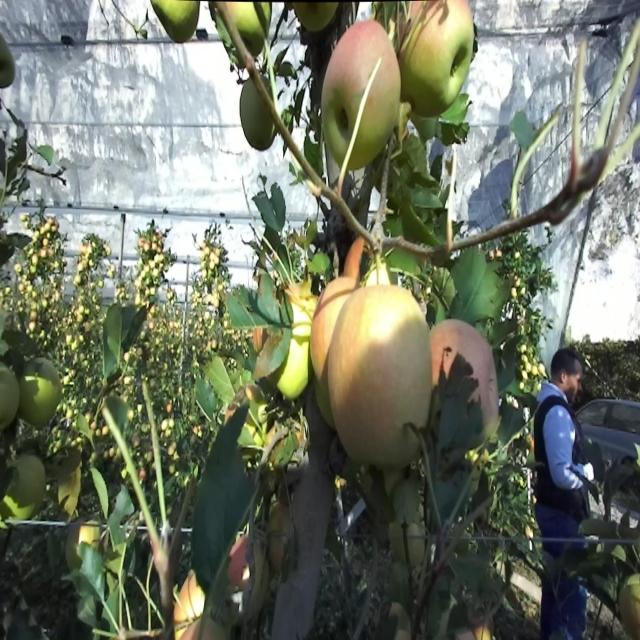apple: (396, 0, 476, 123), (308, 262, 363, 379), (328, 346, 368, 441), (312, 284, 350, 379), (4, 454, 47, 523), (240, 84, 278, 155), (348, 106, 383, 176), (280, 326, 311, 404), (228, 6, 272, 60), (220, 6, 264, 57), (20, 376, 63, 428), (432, 319, 463, 391), (156, 0, 200, 48), (176, 575, 207, 638), (0, 476, 40, 524), (288, 291, 320, 347), (552, 348, 583, 405), (572, 141, 603, 196), (324, 115, 350, 176), (296, 0, 338, 36), (344, 241, 370, 295), (72, 525, 101, 569), (620, 575, 640, 638), (348, 136, 379, 176), (228, 540, 251, 592), (4, 490, 39, 524), (60, 468, 83, 519), (4, 369, 20, 430), (4, 492, 32, 524), (152, 540, 174, 580), (0, 49, 17, 92), (76, 525, 101, 551)
